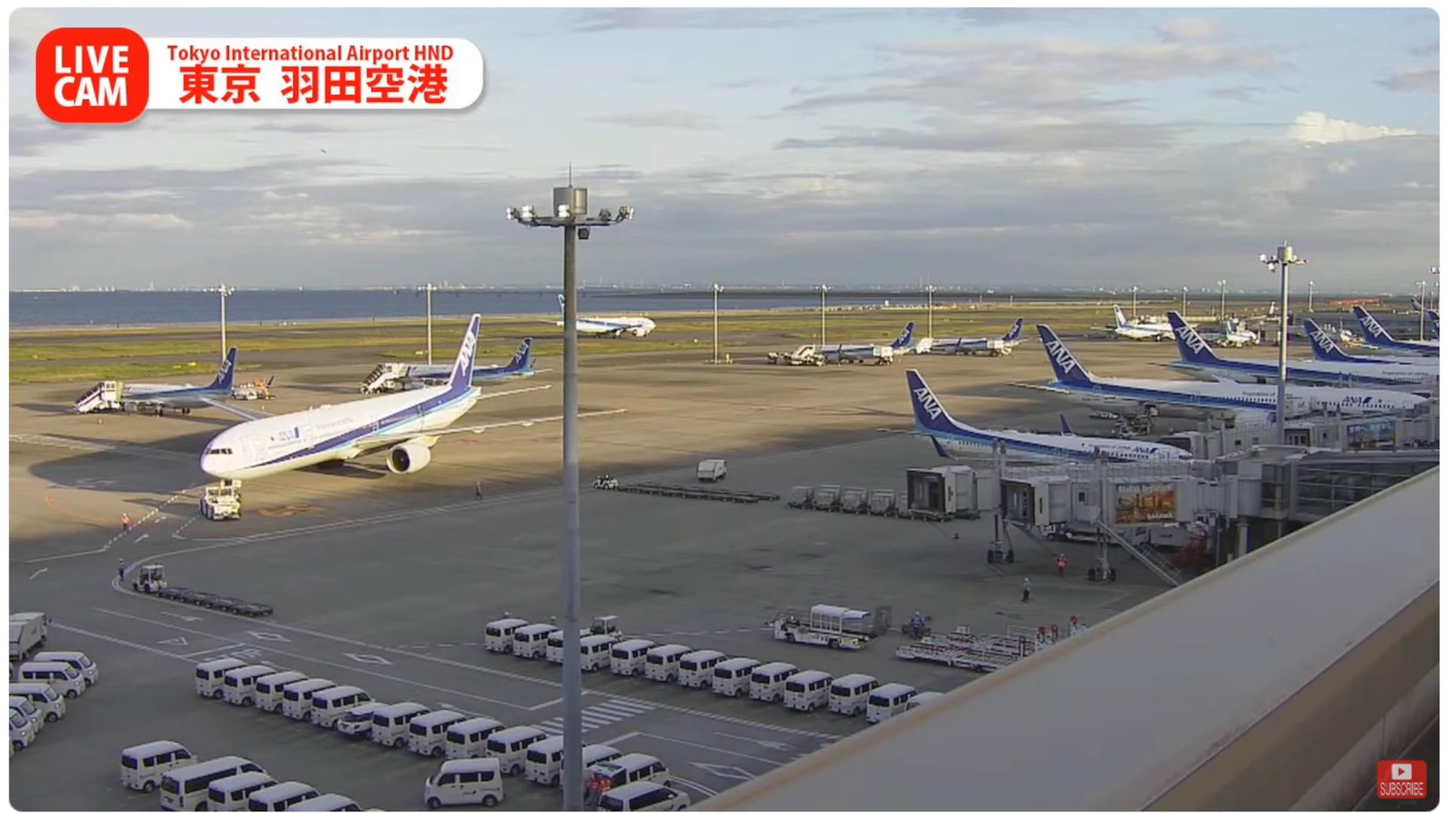APS: (198, 486, 246, 523)
Airplane: (194, 307, 637, 484)
Dolly: (152, 580, 283, 617)
JCPL: (893, 630, 1039, 676)
Skyloader: (774, 600, 879, 655)
Tractor: (134, 564, 168, 598)
